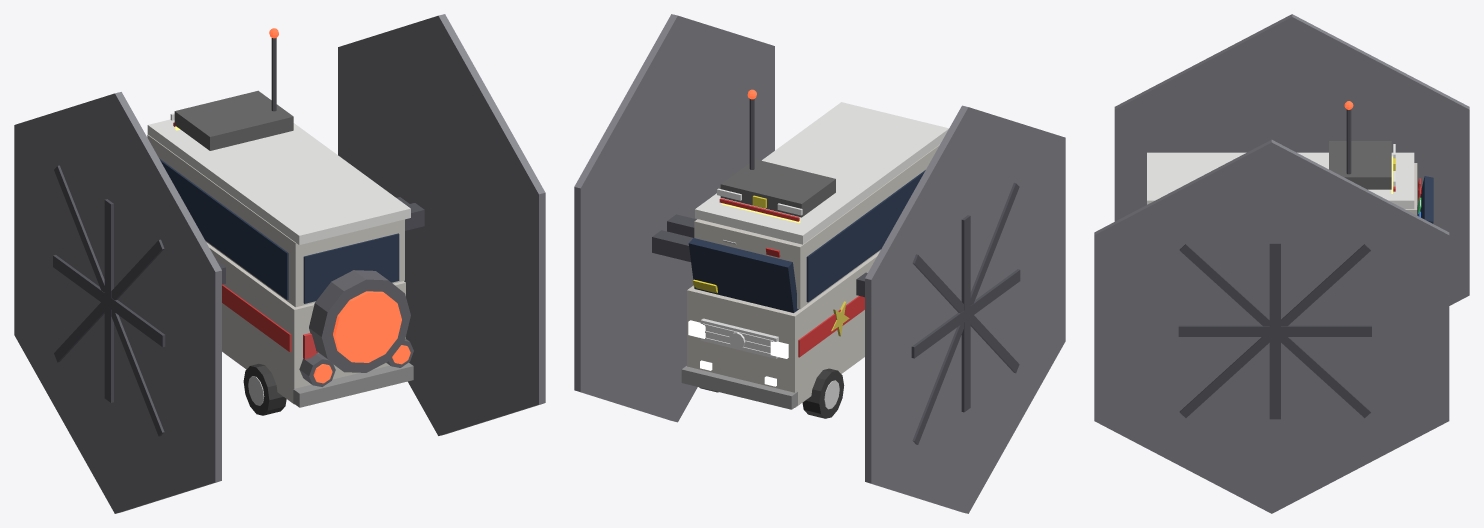
3 renders of one model, left to right at view 1: azimuth 30°, elevation 25°; view 2: azimuth 150°, elevation 25°; view 3: azimuth 270°, elevation 25°, orthographic. The views are drawn at different scales.
Parts seen in each view (by area): view 1: Window_Rear.001; view 2: Window_Rear.001; view 3: Window_Rear.001.
Boxes of the visible parts, bbox=[...] form: Window_Rear.001: bbox=[14, 14, 545, 513]; Window_Rear.001: bbox=[574, 14, 1065, 513]; Window_Rear.001: bbox=[1094, 14, 1469, 513].
Bounding box in the file's own units: 2.9 × 3.69 × 3.3.
